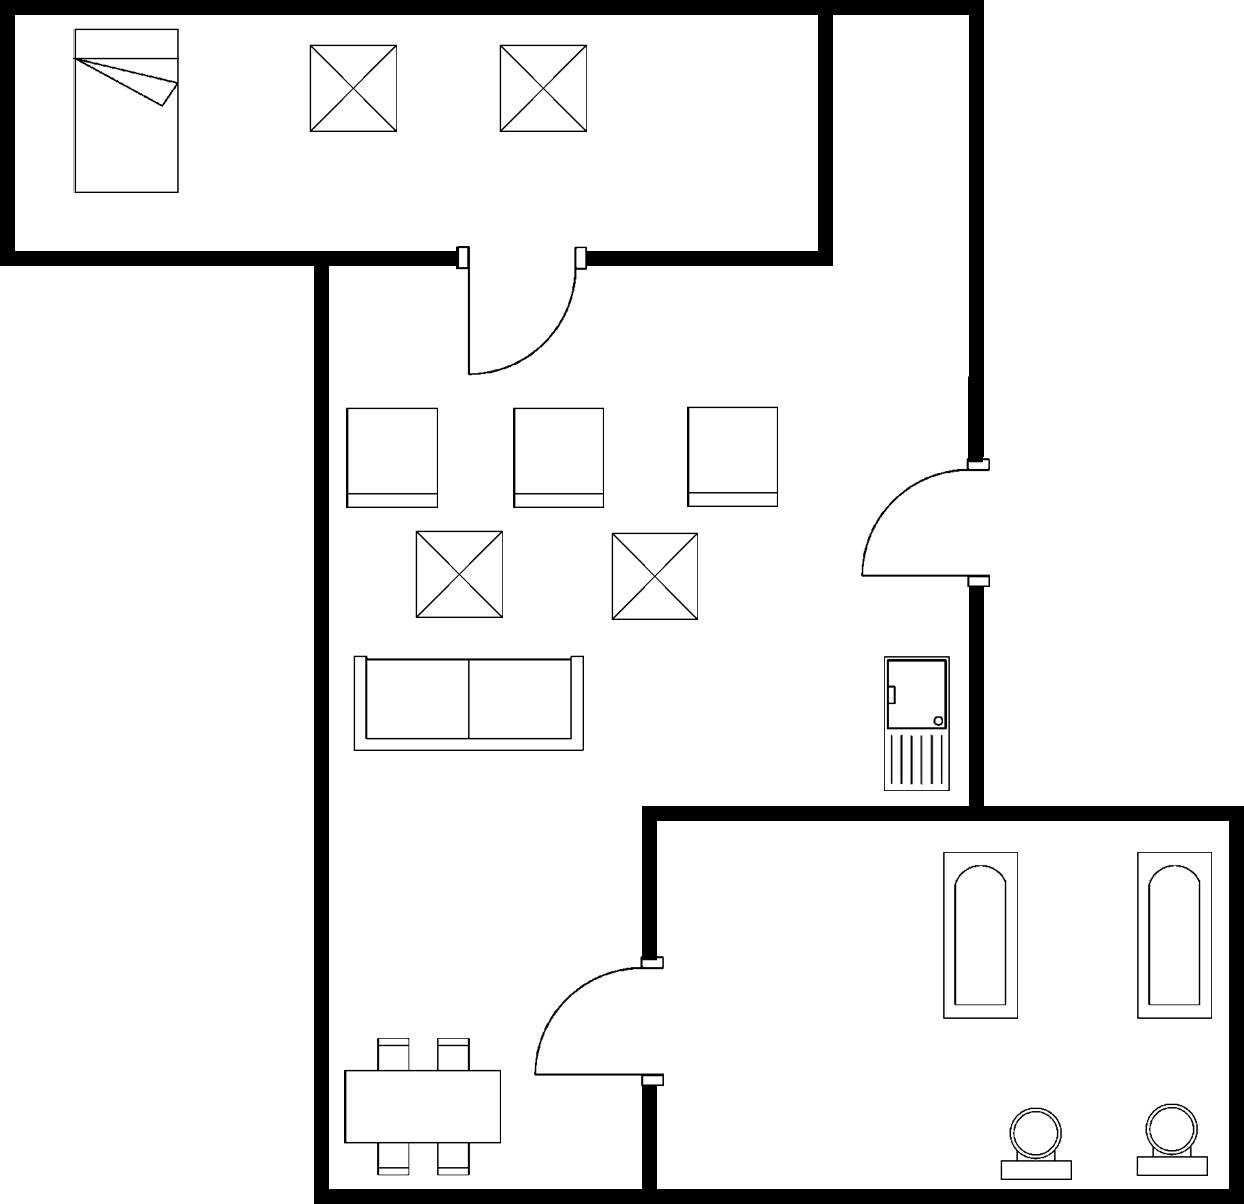bed: (64, 21, 186, 201)
coffee_table: (490, 35, 595, 142), (405, 521, 511, 628), (603, 528, 704, 630), (304, 35, 403, 140)
dining_table: (338, 1029, 515, 1183)
large_sink: (991, 1099, 1082, 1186), (1128, 1098, 1222, 1182)
large_sofa: (343, 648, 595, 762)
sink: (876, 649, 957, 799)
small_sofa: (501, 400, 614, 518), (338, 402, 446, 519), (679, 399, 785, 515)
tub: (1125, 842, 1221, 1030), (936, 843, 1025, 1027)
